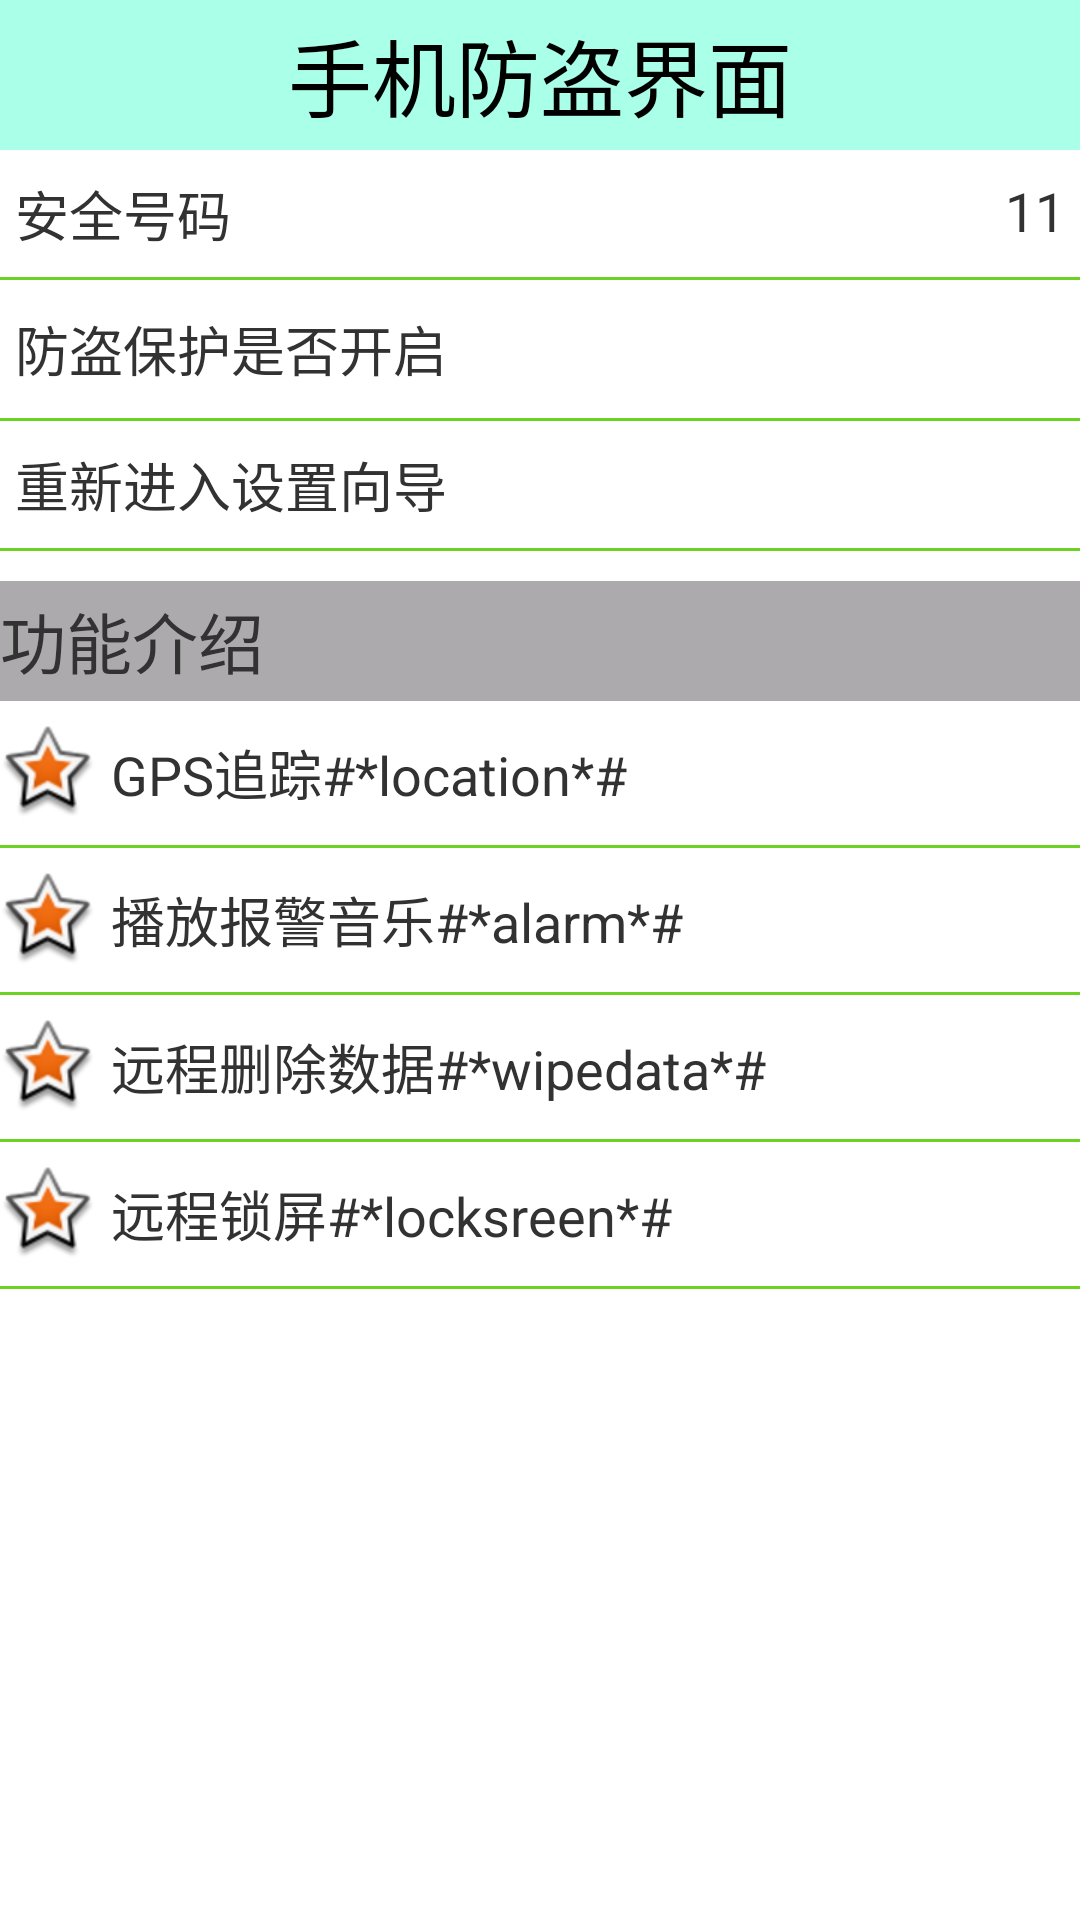

Where icons sit on this 1080px x 1920px app screen, as (x1, y1, x2, y2):
star on: (5, 726, 91, 813), (5, 873, 91, 960), (5, 1020, 91, 1107), (5, 1167, 91, 1254)
